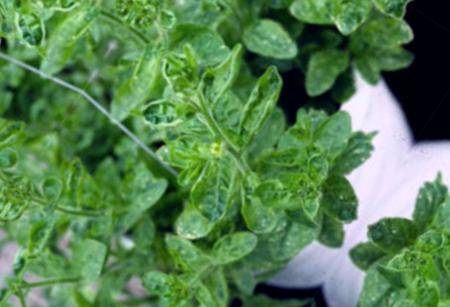Tomato leaf mosaic virus: (172, 139, 256, 232), (226, 59, 298, 147), (199, 216, 265, 286), (327, 0, 380, 42), (301, 142, 342, 189)
